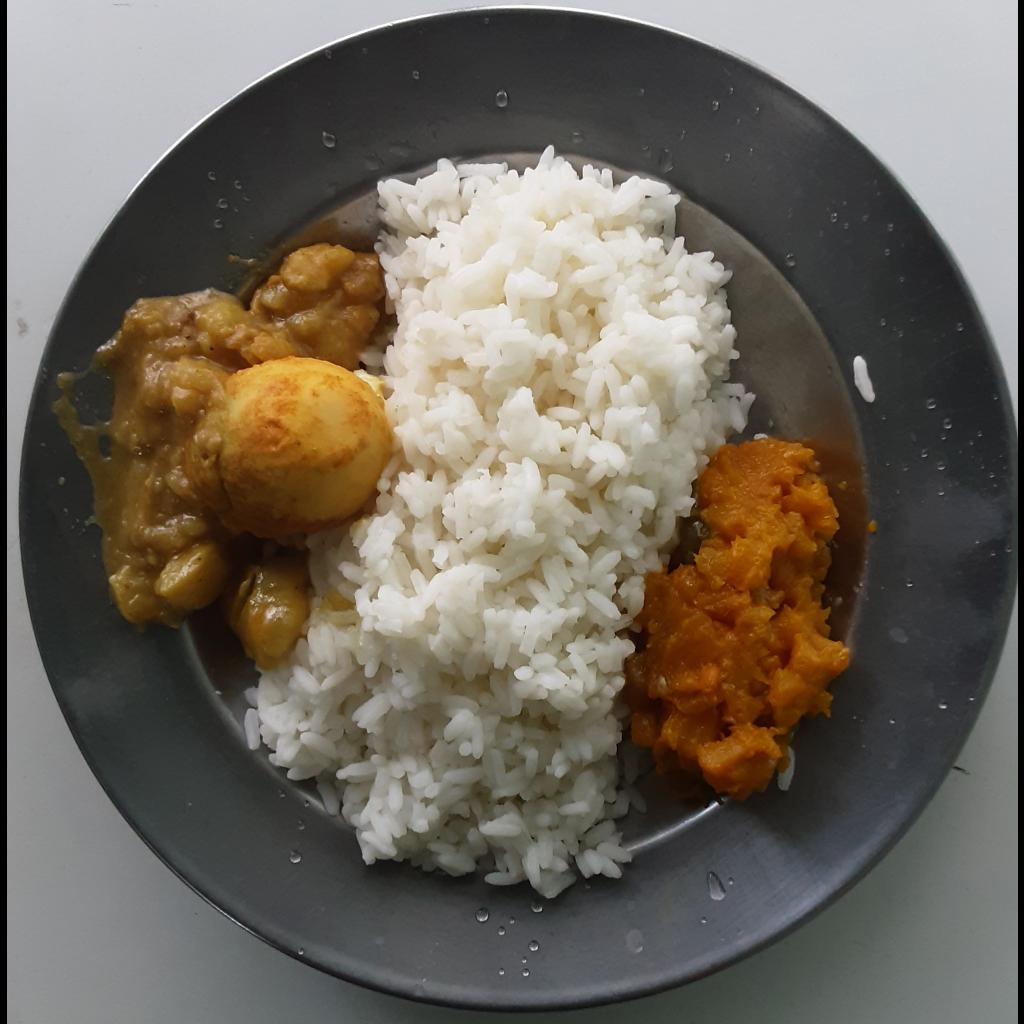egg-boiled: (185, 356, 391, 545)
kumra-vaji: (623, 441, 857, 799)
potato: (41, 243, 383, 662)
rice: (244, 142, 753, 905)
